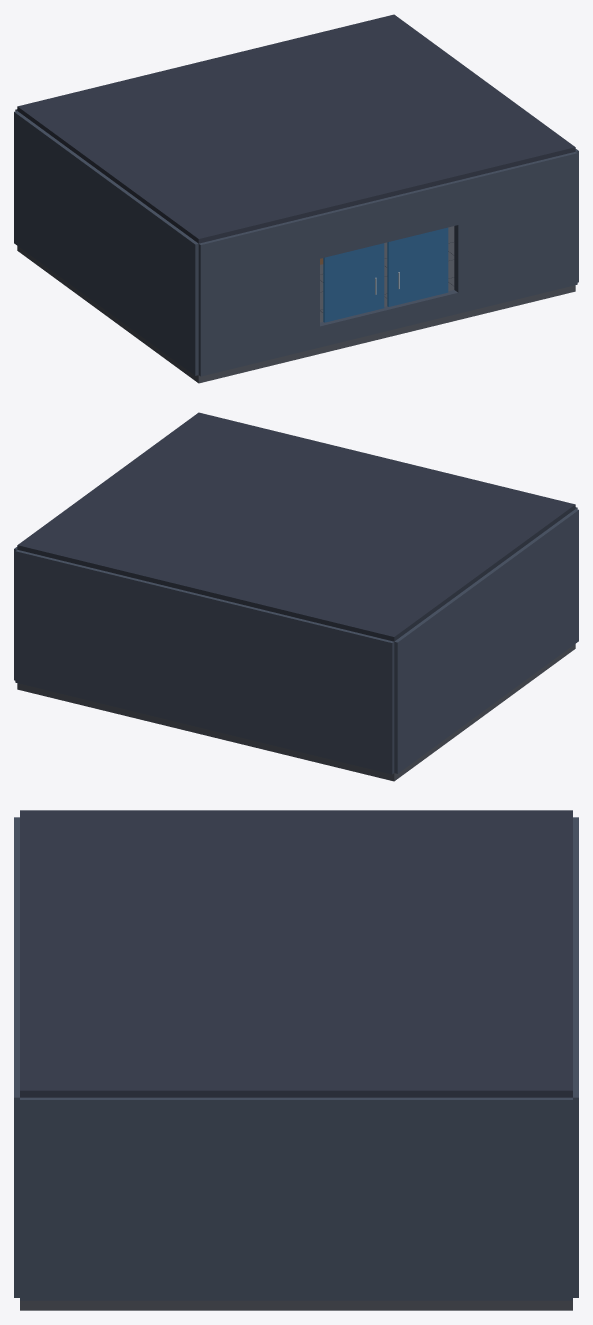
Rendered from modern-gaming-lounge.glb.
3 views of the same model, one above another, from view 1: azimuth 30°, elevation 25°; view 2: azimuth 150°, elevation 25°; view 3: azimuth 270°, elevation 25° (orthographic). The views are drawn at different scales.
Parts seen in each view (by area): view 1: ROOM_Ceiling, ROOM_LeftWall, ROOM_FrontWall_R, ROOM_FrontWall_L, ROOM_FrontWall_Top, ROOM_Floor, ENTRY_GlassDoor, ENTRY_GlassDoor.001, ROOM_FrontWall_Bottom; view 2: ROOM_Ceiling, ROOM_BackWall, ROOM_LeftWall, ROOM_Floor; view 3: ROOM_Ceiling, ROOM_RightWall, ROOM_Floor, ROOM_BackWall, ROOM_FrontWall_R.
Boxes of the visible parts, bbox=[...] form: ROOM_Ceiling: bbox=[17, 14, 575, 243]; ROOM_LeftWall: bbox=[14, 111, 198, 375]; ROOM_FrontWall_R: bbox=[454, 152, 577, 313]; ROOM_FrontWall_L: bbox=[198, 214, 319, 376]; ROOM_FrontWall_Top: bbox=[318, 181, 458, 258]; ROOM_Floor: bbox=[17, 226, 575, 383]; ENTRY_GlassDoor: bbox=[323, 243, 384, 322]; ENTRY_GlassDoor.001: bbox=[387, 227, 448, 306]; ROOM_FrontWall_Bottom: bbox=[320, 290, 458, 347]; ROOM_Ceiling: bbox=[17, 412, 575, 641]; ROOM_BackWall: bbox=[15, 550, 394, 774]; ROOM_LeftWall: bbox=[394, 509, 578, 773]; ROOM_Floor: bbox=[17, 644, 575, 781]; ROOM_Ceiling: bbox=[20, 810, 572, 1097]; ROOM_RightWall: bbox=[20, 1097, 572, 1300]; ROOM_Floor: bbox=[20, 1300, 572, 1310]; ROOM_BackWall: bbox=[573, 817, 578, 1297]; ROOM_FrontWall_R: bbox=[14, 1008, 19, 1297].
Bounding box in the file's own units: 12.22 × 4.4 × 10.22.
